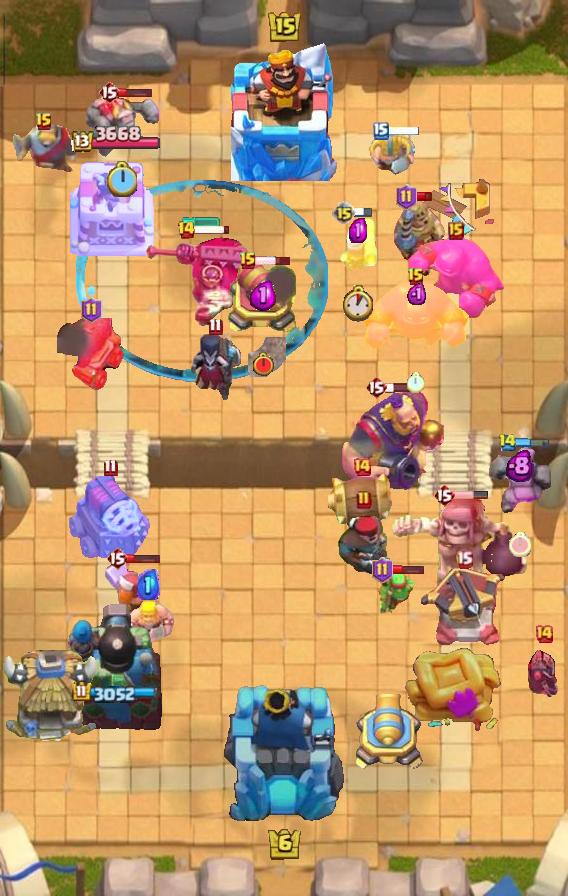archer: (120, 599, 176, 647)
battle-ram: (523, 647, 565, 701)
clone: (407, 235, 505, 321), (360, 279, 472, 351)
electro-giant: (389, 492, 531, 606)
electro-spirit: (506, 449, 534, 482), (250, 280, 276, 311), (136, 569, 159, 600), (406, 282, 425, 306), (349, 217, 367, 242)
elixir: (341, 286, 376, 323), (107, 161, 138, 197), (253, 351, 276, 377), (509, 532, 531, 557), (407, 371, 425, 392)
emote: (255, 255, 292, 267), (385, 381, 421, 393), (126, 552, 162, 564), (119, 86, 154, 98), (515, 437, 550, 449), (193, 224, 230, 235), (390, 565, 426, 576), (453, 490, 489, 500), (388, 126, 421, 136), (414, 190, 434, 202), (354, 206, 374, 217)
firecracker: (11, 122, 78, 175)
fisherman: (248, 337, 286, 377)
giant-snowball: (377, 572, 417, 618)
goblin-giant: (368, 133, 416, 175)
golem: (67, 473, 153, 561)
ice-spirit: (181, 215, 223, 227)
inferno-tower: (143, 235, 261, 327)
king-tower: (221, 682, 347, 826), (231, 43, 337, 181)
lava-pup: (420, 567, 508, 649)
lightning: (341, 386, 447, 496)
mighty-miner: (102, 557, 160, 633)
pad_0: (76, 179, 328, 383)
phoenix-small: (335, 514, 393, 584)
prince: (0, 650, 102, 746)
queen-tower: (70, 154, 158, 256)
ram-rider: (390, 196, 456, 278)
rascal-boy: (186, 331, 244, 403)
royal-giant-evolution: (57, 318, 125, 392)
royal-recruit: (352, 694, 428, 774), (227, 263, 299, 337)
selected: (68, 126, 159, 154), (71, 681, 156, 703)
text: (332, 201, 356, 225), (396, 184, 417, 210), (82, 297, 103, 323), (371, 557, 392, 583), (98, 80, 120, 104), (365, 375, 387, 399), (433, 483, 455, 507), (106, 546, 128, 570), (352, 457, 372, 477), (534, 624, 554, 644), (177, 220, 196, 240), (498, 433, 517, 452), (35, 112, 53, 132), (239, 251, 257, 271), (407, 267, 425, 287), (356, 490, 372, 510), (455, 551, 472, 569), (373, 122, 389, 140), (448, 222, 464, 240), (209, 316, 224, 335), (103, 458, 117, 477)
the-log: (325, 473, 399, 525)
tombstone: (337, 215, 379, 273)
tower-bar: (64, 601, 164, 731)
valkyrie-evolution: (82, 93, 160, 157), (489, 441, 551, 517)
